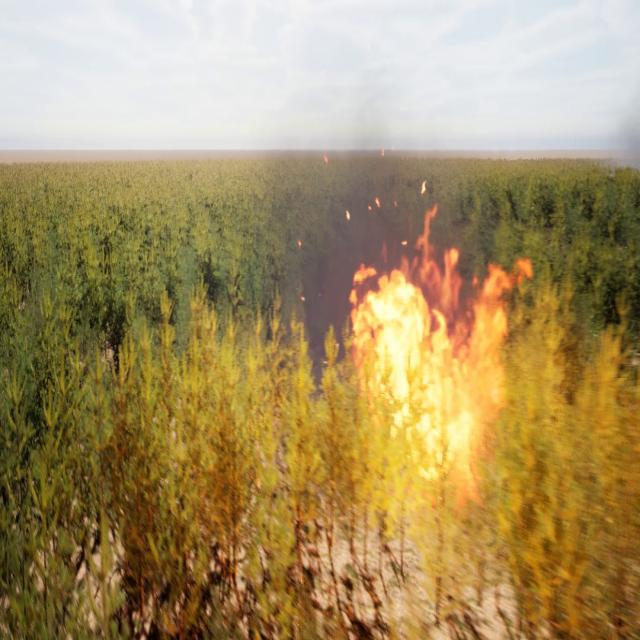fire: (344, 204, 534, 504)
smoke: (281, 64, 484, 372)
